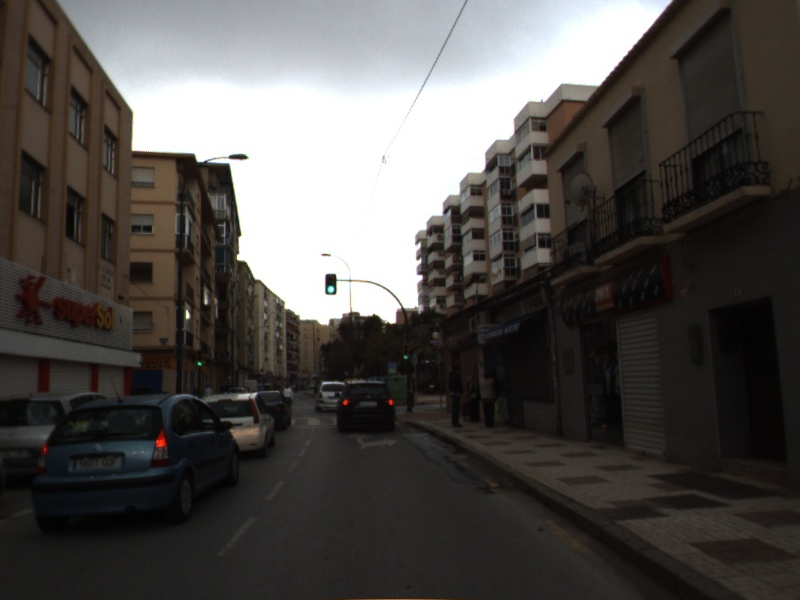STRAIGHT_RIGHT: (345, 431, 400, 451)
